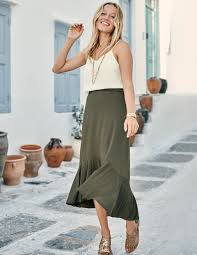C_skirt: (64, 87, 148, 225)
